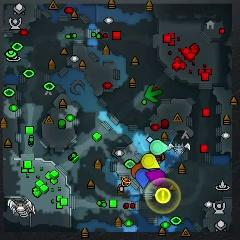Other: (155, 187, 171, 204)
p1: (136, 168, 152, 190)
p2: (150, 140, 169, 155)
p3: (146, 170, 165, 185)
p4: (142, 153, 161, 169)
p5: (131, 163, 144, 178)
x4: (145, 84, 162, 103)
